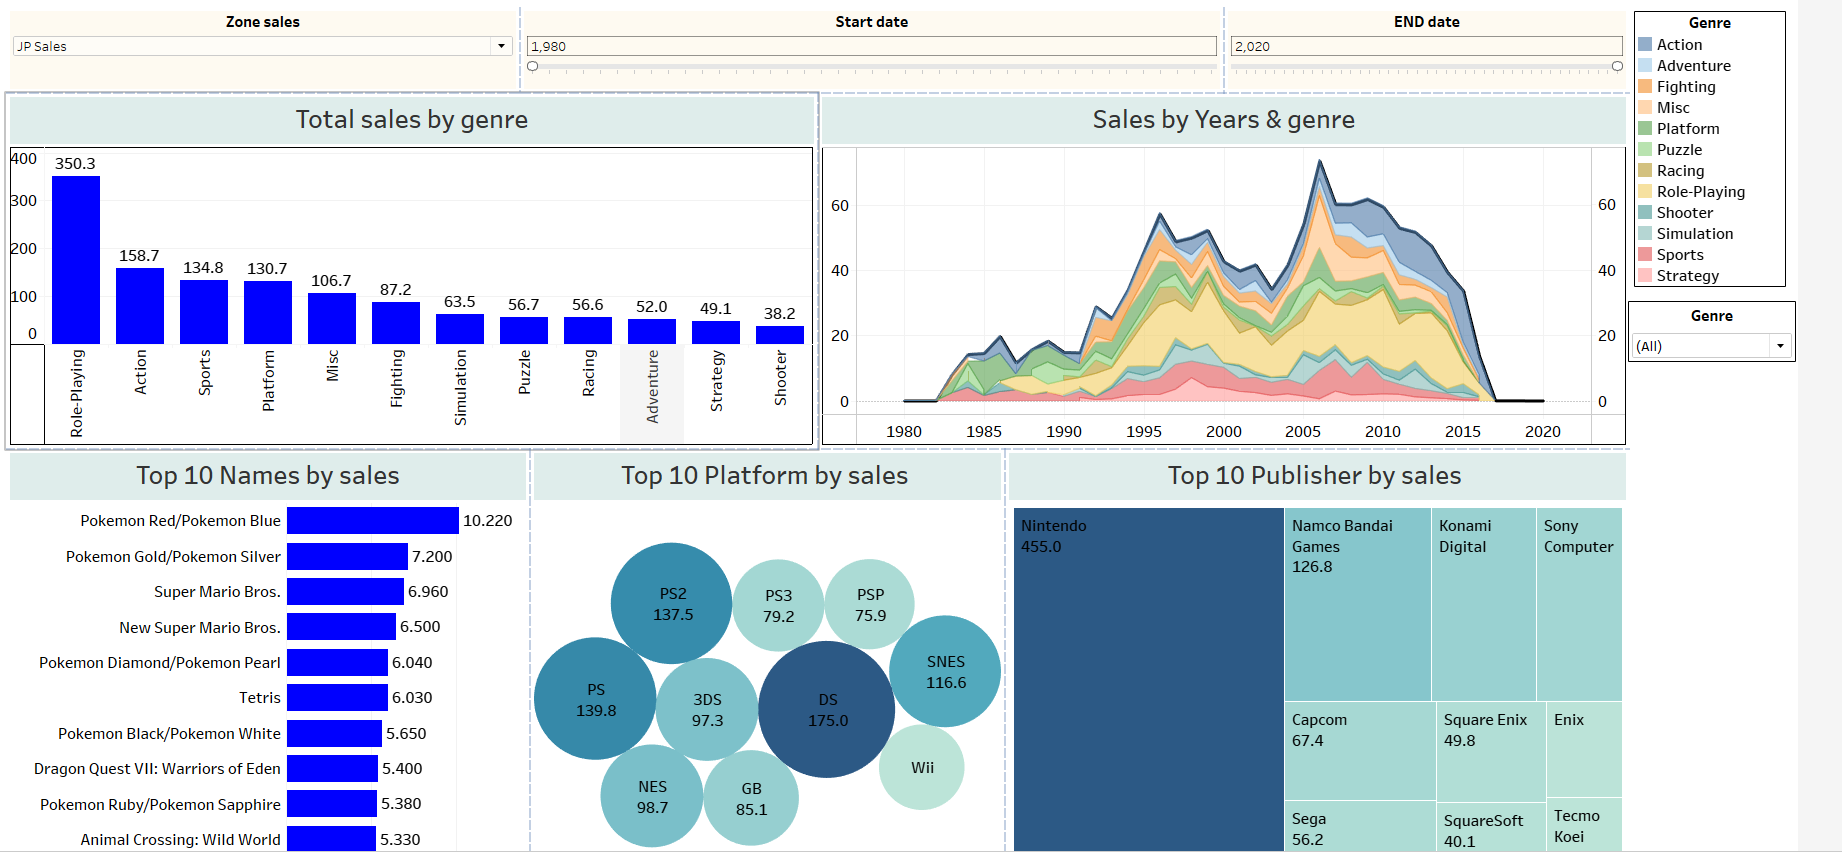

This screenshot's page, from the dashboard's own definition file:
{"tool":"tableau","page":{"name":"Dashboard 1","canvas":[1800,900],"ordinal":0},"visuals":[{"type":"parameter","param":"[Parameters].[Parameter 1]","box":[8,8,514,86]},{"type":"parameter","param":"[Parameters].[Parameter 2]","box":[522,8,704,86]},{"type":"parameter","param":"[Parameters].[Parameter 3]","box":[1226,8,406,86]},{"type":"legend","title":"Sales by Years & genre","param":"[federated.1c6te9f10009u91al0y4c109zn3f].[none:Genre:nk]","box":[1632,8,160,284]},{"type":"worksheet","title":"Total sales by genre","mark":"Automatic","rows":["Calculation_1079456574366326785"],"cols":["Genre"],"box":[8,94,812,356]},{"type":"worksheet","title":"Sales by Years & genre","mark":"Automatic","rows":["Calculation_1079456574366326785","Calculation_1079456574366326785"],"cols":["Year"],"box":[820,94,812,356]},{"type":"filter","title":"Sales by Years & genre","param":"[federated.1c6te9f10009u91al0y4c109zn3f].[none:Genre:nk]","box":[1630,302,168,61]},{"type":"worksheet","title":"Top 10 Names by sales","mark":"Automatic","rows":["Name"],"cols":["Calculation_1079456574366326785"],"box":[8,450,524,442]},{"type":"worksheet","title":"Top 10 Platform by sales ","mark":"Circle","box":[532,450,475,442]},{"type":"worksheet","title":"Top 10 Publisher by sales ","mark":"Automatic","box":[1007,450,625,442]}]}

Visuals, with their boxes on the page's 1800x900 design canvas (x1, y1, x2, y2). These are canvas units, not pixel positions in the 1842x852 screenshot, which may show the page scaled, cropped or inside an application window:
parameter: 8 8 522 94
parameter: 522 8 1226 94
parameter: 1226 8 1632 94
"Sales by Years & genre" legend: 1632 8 1792 292
"Total sales by genre" worksheet: 8 94 820 450
"Sales by Years & genre" worksheet: 820 94 1632 450
"Sales by Years & genre" filter: 1630 302 1798 363
"Top 10 Names by sales" worksheet: 8 450 532 892
"Top 10 Platform by sales " worksheet (Circle marks): 532 450 1007 892
"Top 10 Publisher by sales " worksheet: 1007 450 1632 892
